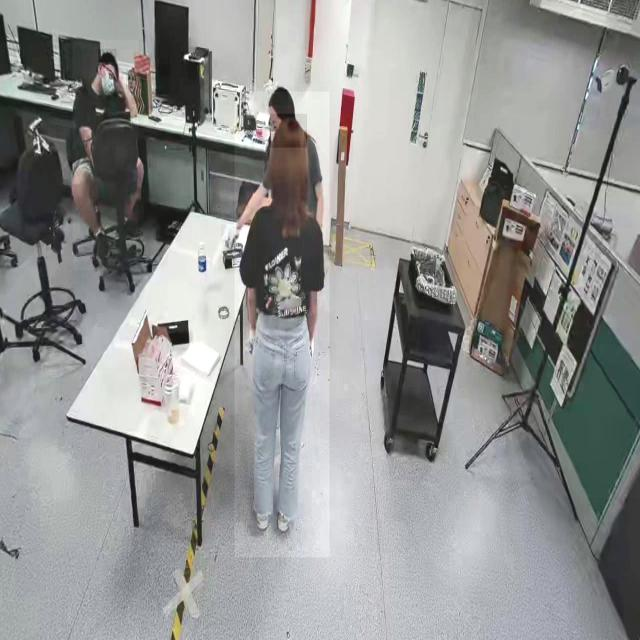face_mask: (98, 59, 118, 98)
hand_glove: (221, 220, 241, 254)
hand_noglove: (116, 71, 126, 93)
head_nohelmet: (270, 114, 308, 148), (268, 85, 294, 107), (99, 49, 117, 63)
person: (234, 92, 330, 558), (73, 40, 139, 271)
shoes: (94, 222, 110, 262)
